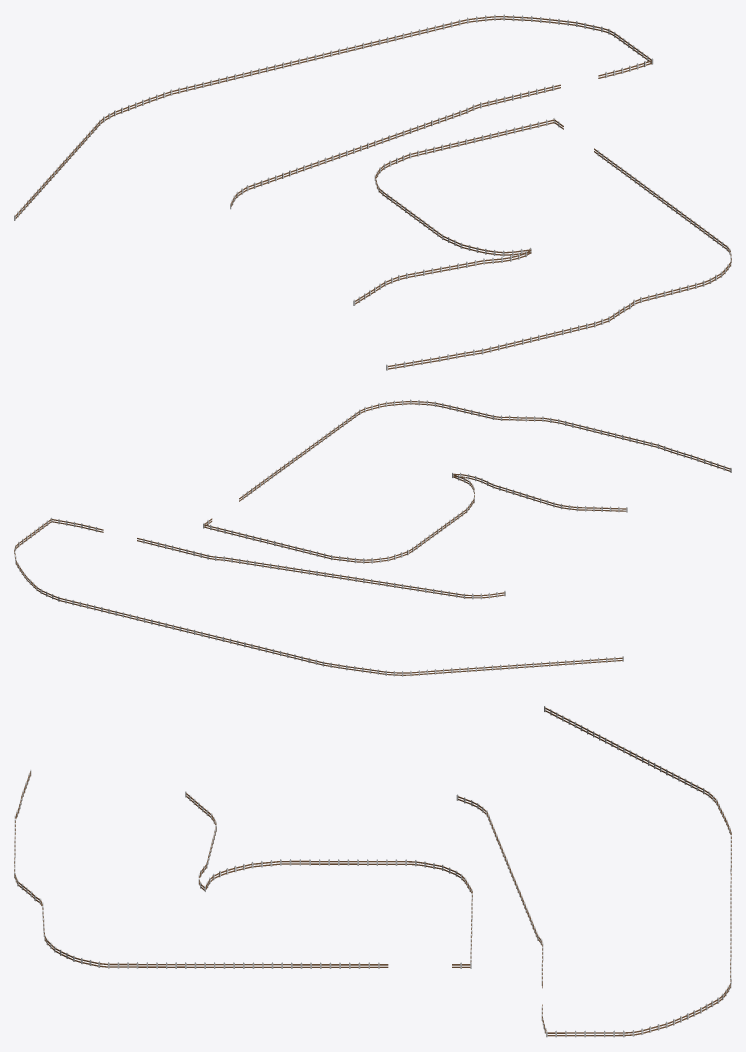
Rendered from SM_Low_linked_fence.fbx.
The picture shows the model from 3 angles, top to bottom: view 1: azimuth 30°, elevation 25°; view 2: azimuth 150°, elevation 25°; view 3: azimuth 270°, elevation 25°; orthographic projection. The views are drawn at different scales.
Visible parts, largest first — view 1: Low linked fence; view 2: Low linked fence; view 3: Low linked fence.
Part boxes in pixels (x1,y1,x2,y2): Low linked fence: [14, 14, 731, 370]; Low linked fence: [14, 399, 731, 676]; Low linked fence: [14, 705, 731, 1037].
Size of the model in its own units: 9978 by 90.06 by 9288.
